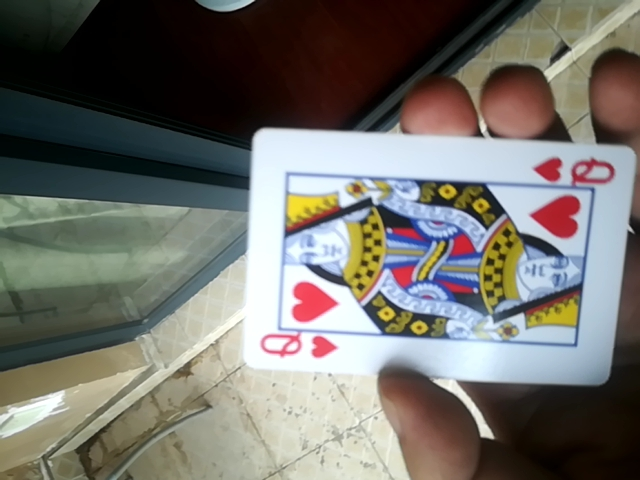hx q: (239, 125, 639, 386)
